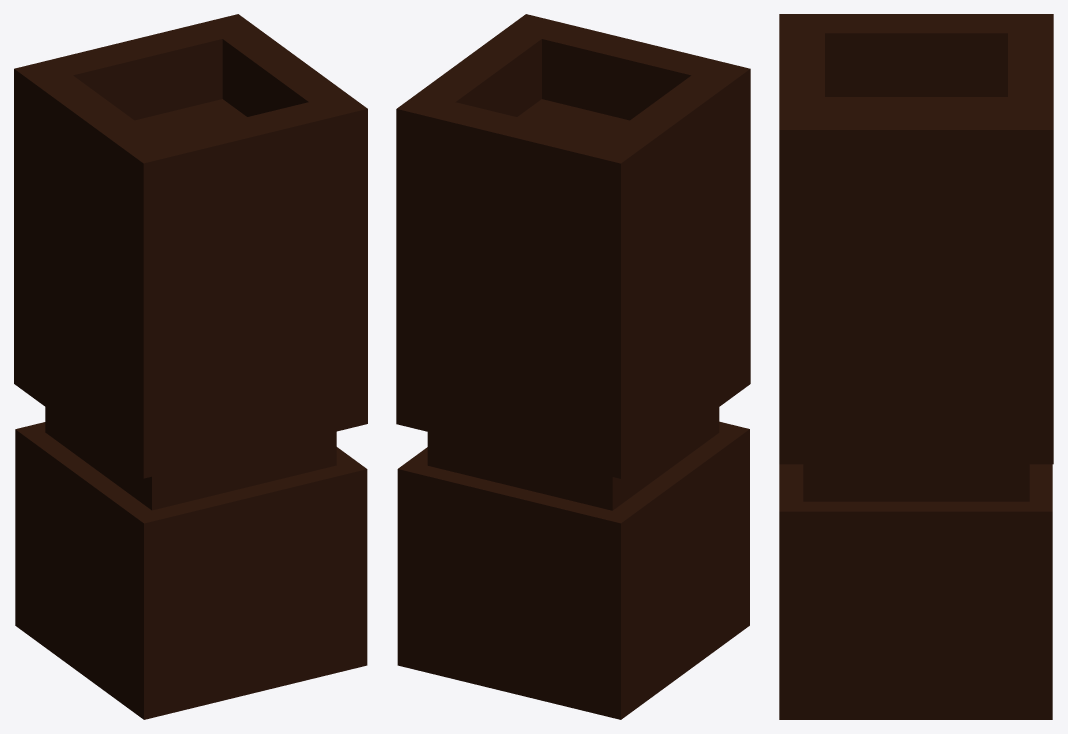
The picture shows the model from 3 angles, left to right: view 1: azimuth 30°, elevation 25°; view 2: azimuth 150°, elevation 25°; view 3: azimuth 270°, elevation 25°; orthographic projection. The views are drawn at different scales.
Visible parts, largest first — view 1: 四角2凹_茶; view 2: 四角2凹_茶; view 3: 四角2凹_茶.
Boxes of the visible parts, x1,y1,x2,y2 form: 四角2凹_茶: (14,14,367,719); 四角2凹_茶: (396,14,750,719); 四角2凹_茶: (779,14,1053,719).
Bounding box in the file's own units: 0.022 × 0.0522 × 0.022.
